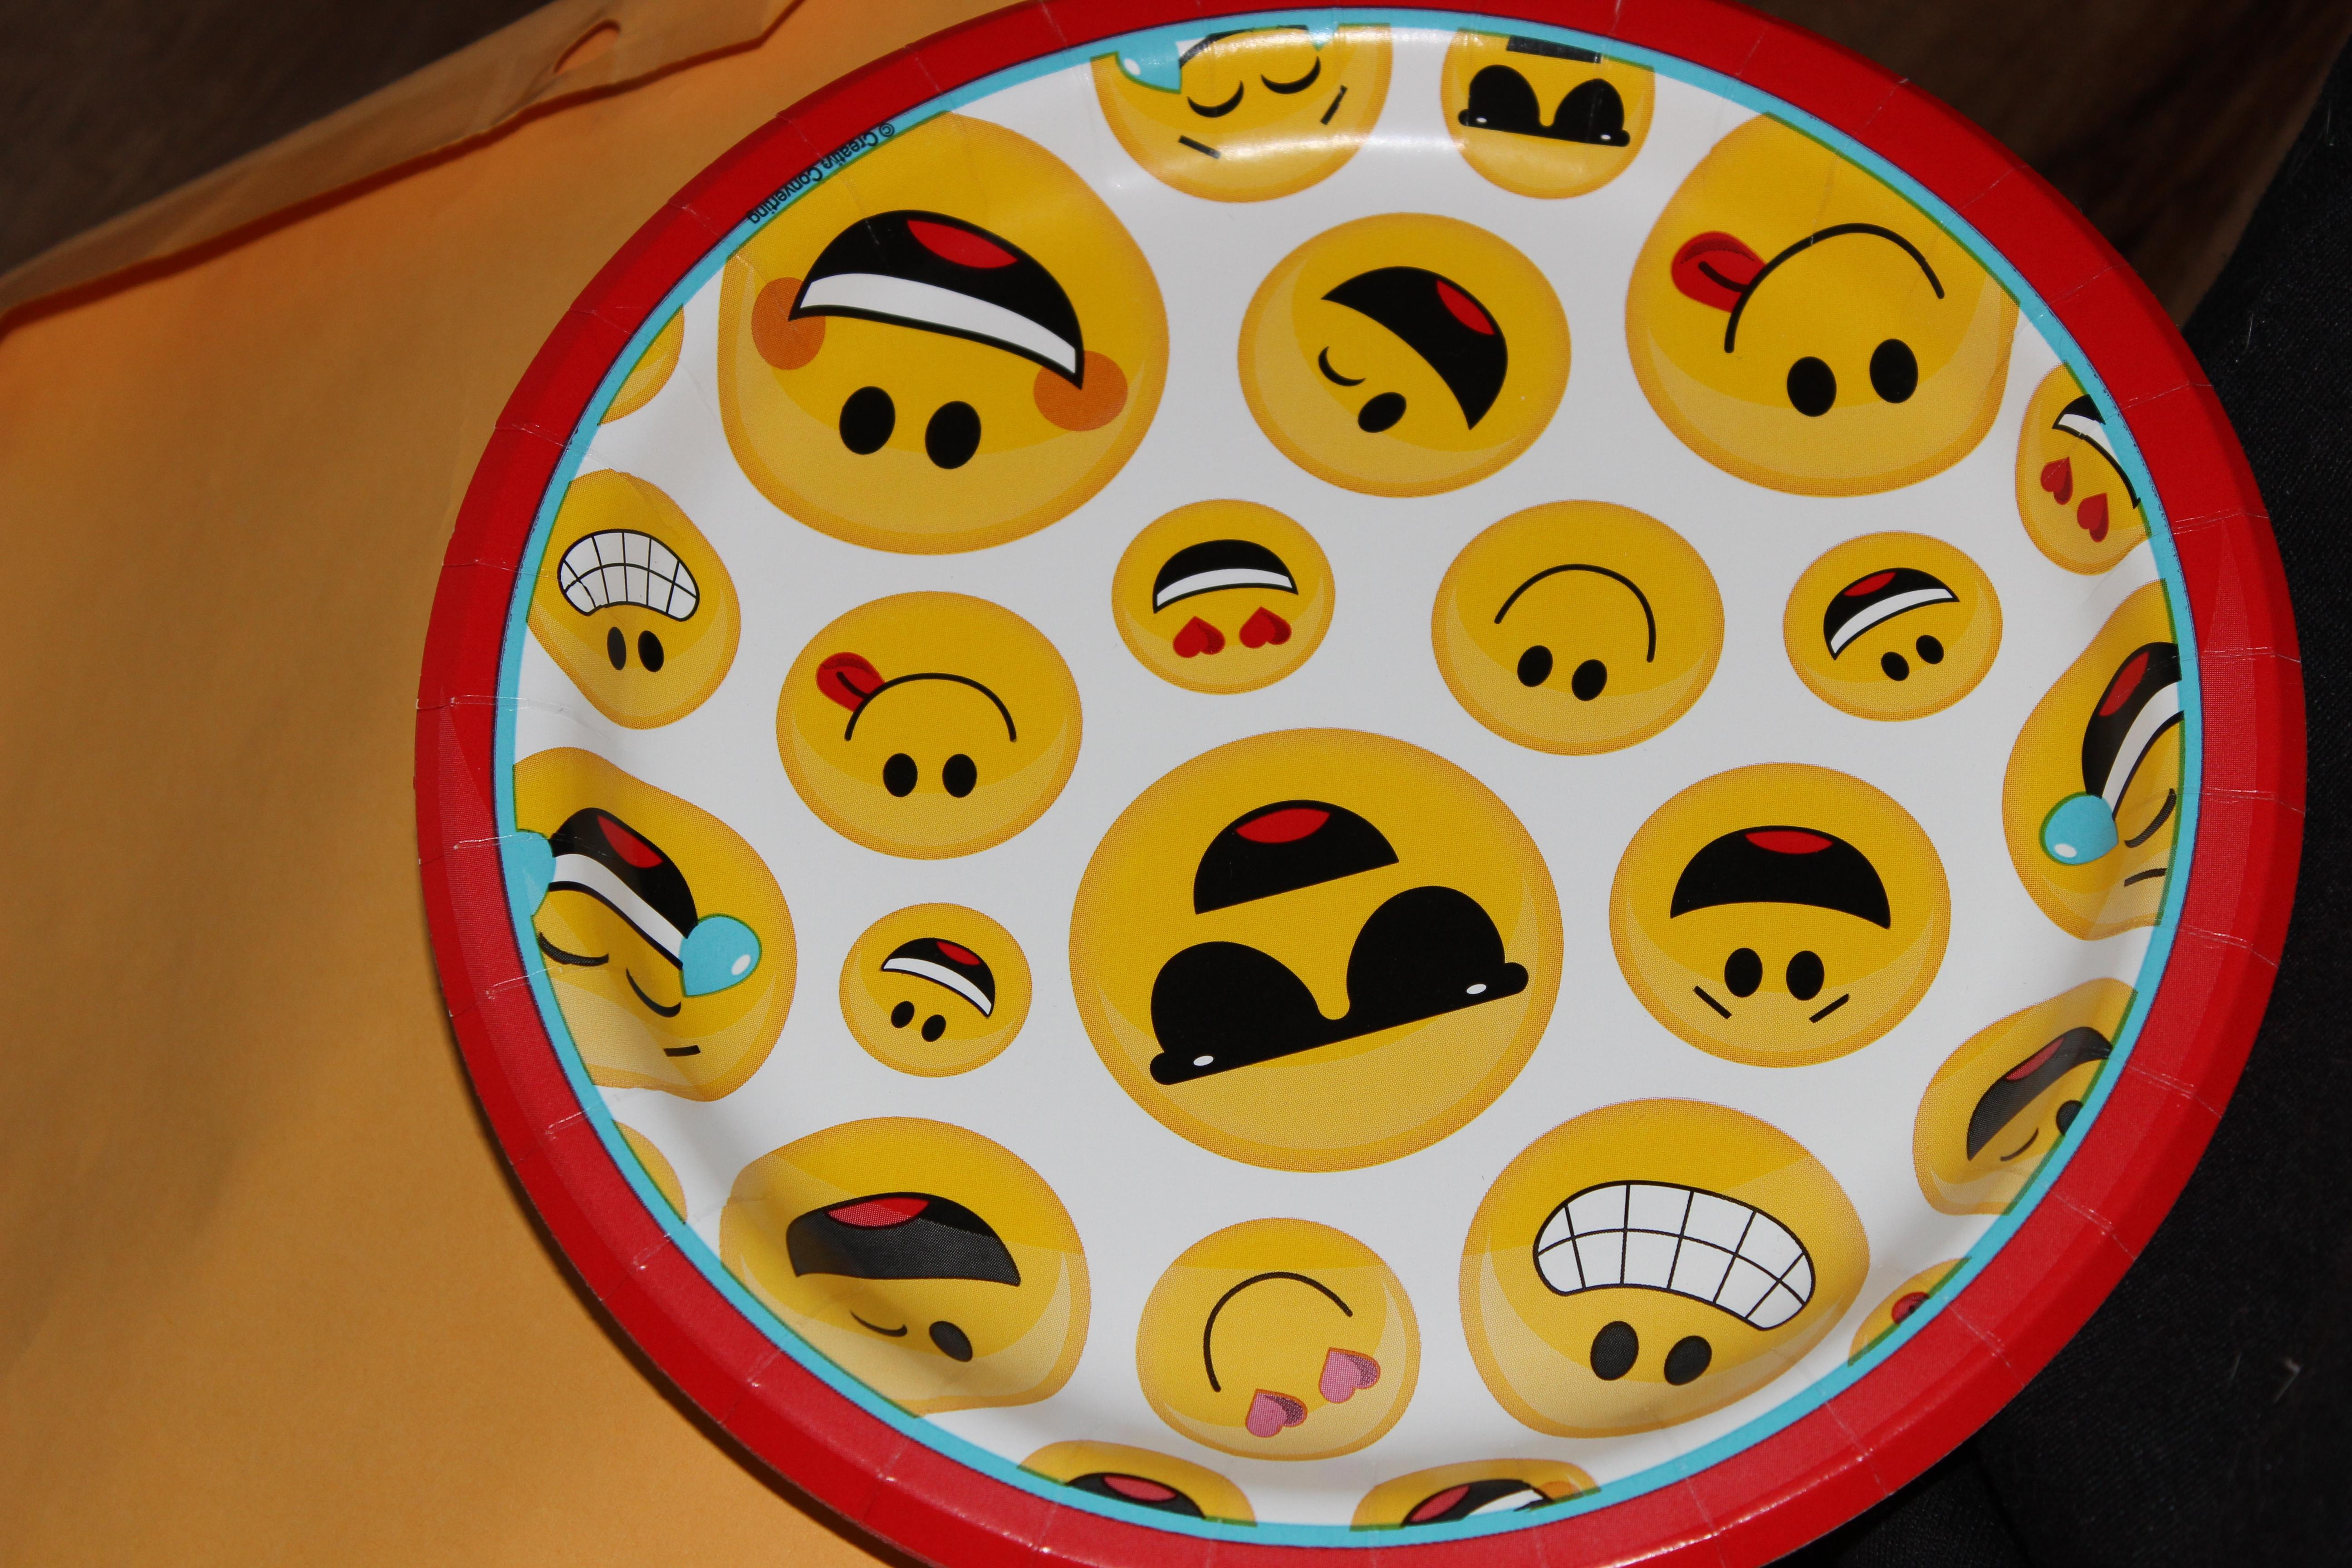paperPlate: (383, 3, 2312, 1568)
